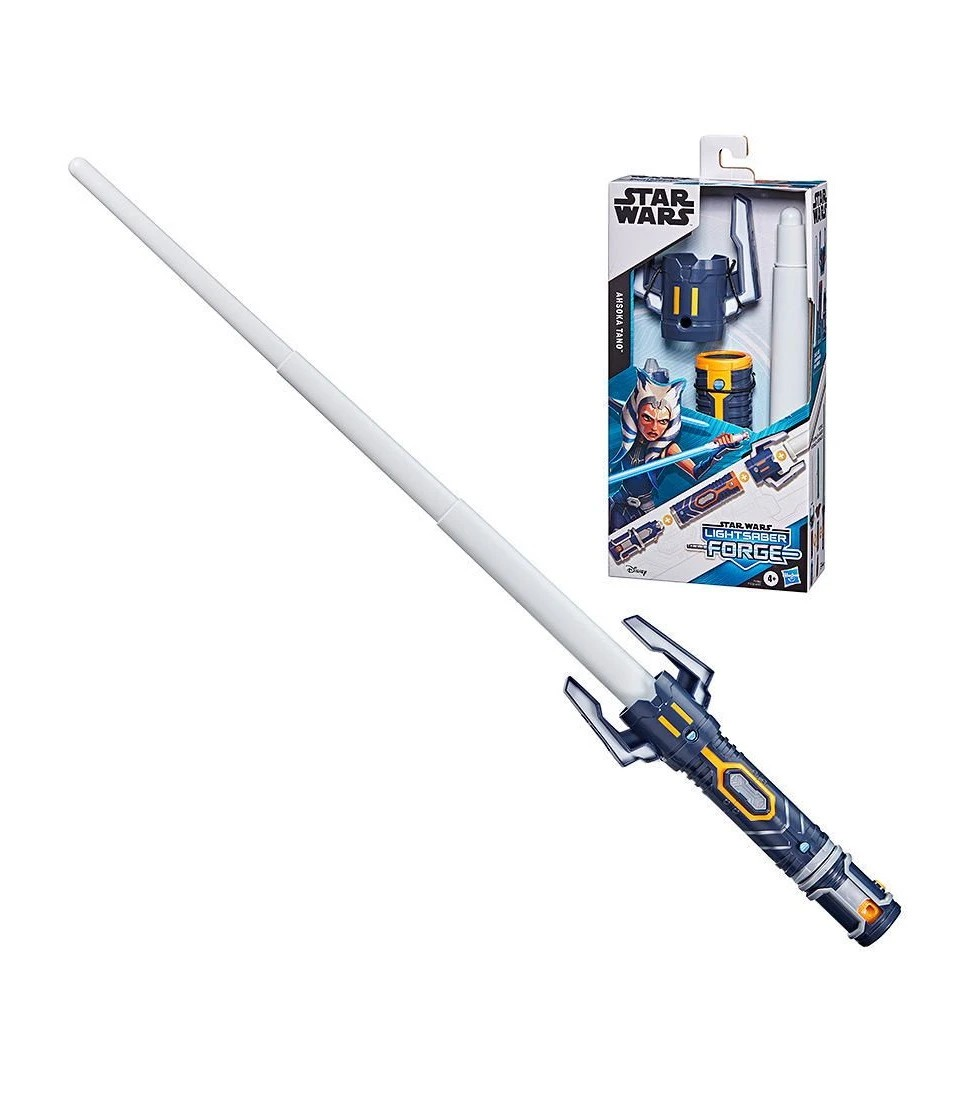lightsaber: (42, 132, 938, 969)
